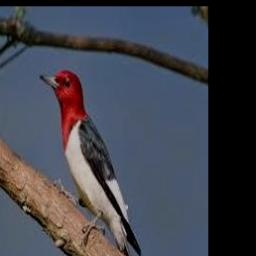Woodpecker: (40, 69, 142, 256)
